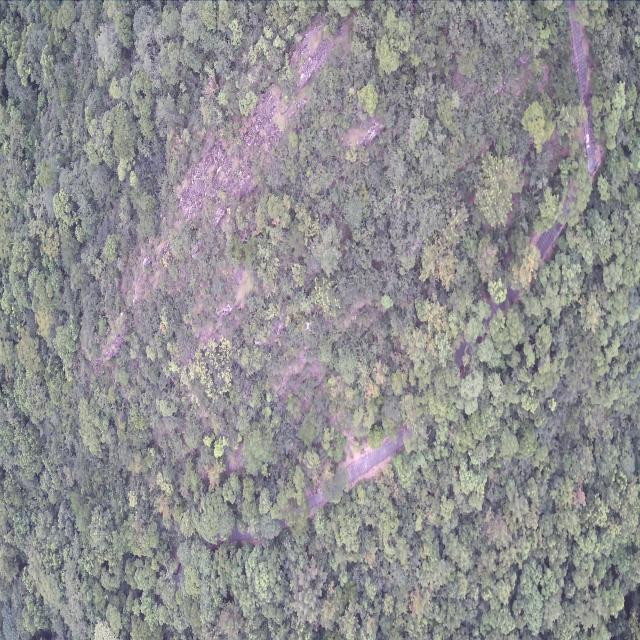UAV: (304, 322, 312, 332)
